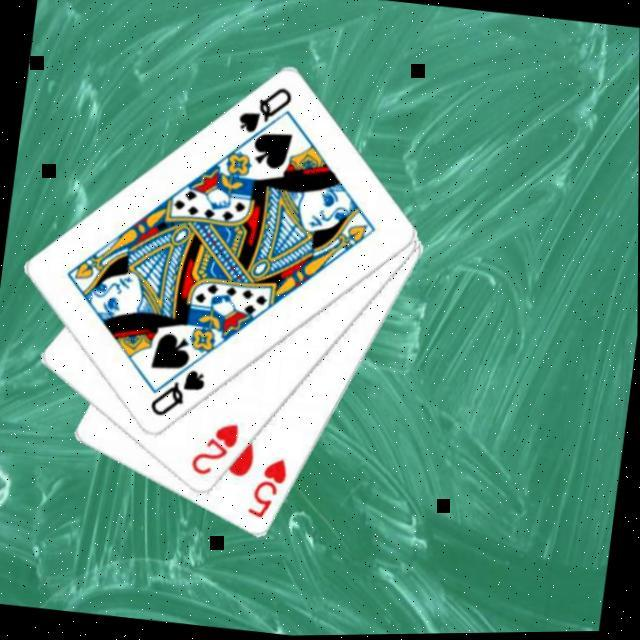2H: (185, 414, 242, 482)
5H: (243, 452, 291, 524)
QS: (232, 78, 296, 142), (145, 360, 208, 424)
